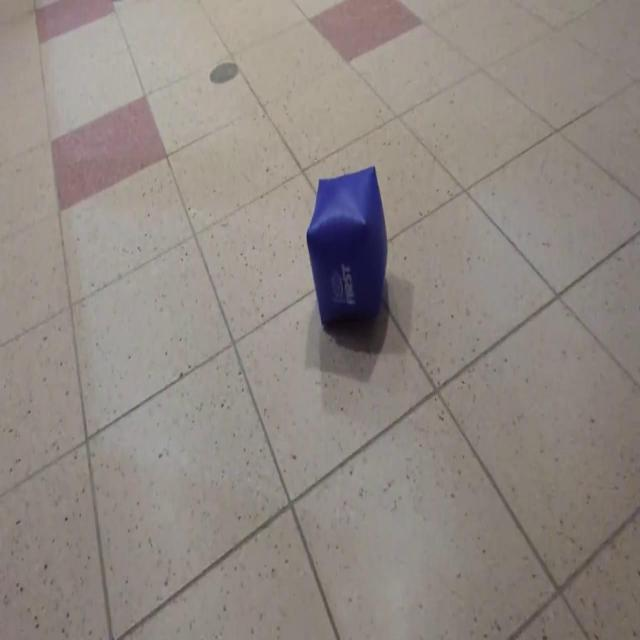frc_cube: (307, 167, 389, 337)
